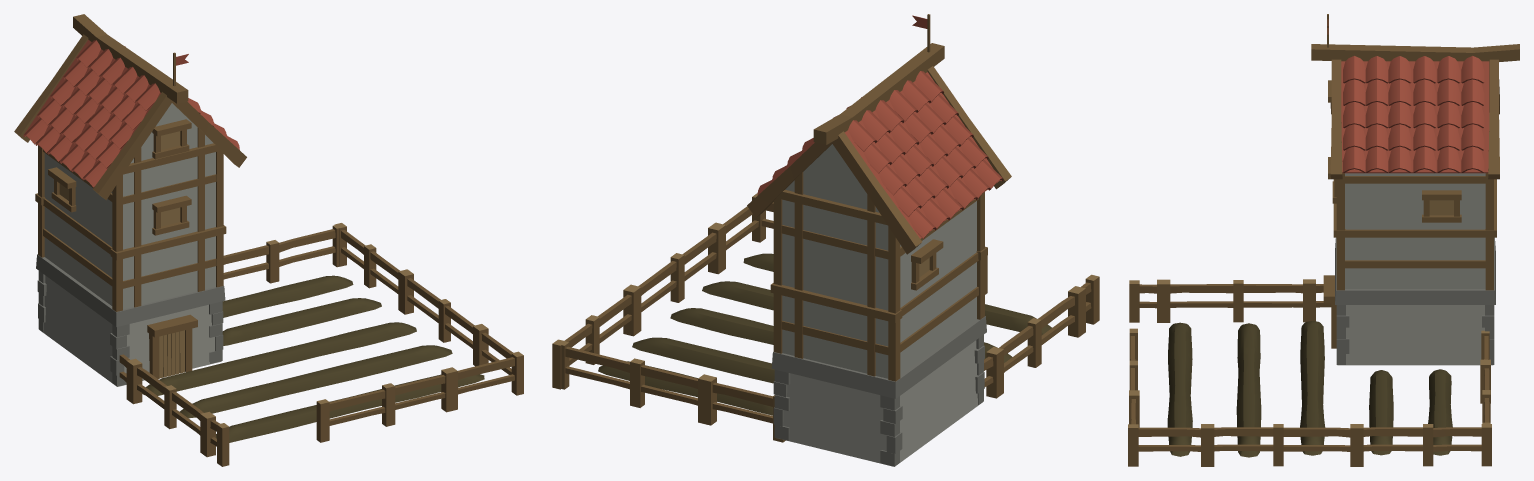
File: Farm.glb
3 views of the same model, side by side, from view 1: azimuth 30°, elevation 25°; view 2: azimuth 150°, elevation 25°; view 3: azimuth 270°, elevation 25° (orthographic). The views are drawn at different scales.
Parts seen in each view (by area): view 1: Farm_Merged; view 2: Farm_Merged; view 3: Farm_Merged.
Boxes of the visible parts, x1,y1,x2,y2 form: Farm_Merged: (14, 14, 523, 466); Farm_Merged: (552, 14, 1099, 466); Farm_Merged: (1128, 14, 1519, 466).
Bounding box in the file's own units: 1.91 × 1.84 × 1.98.
